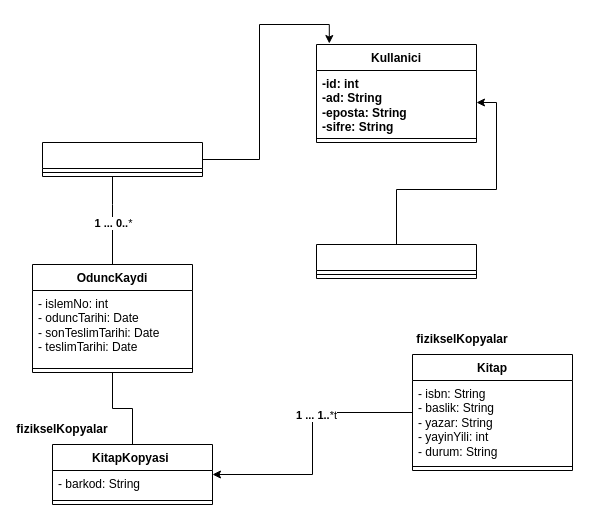
This 590x522 diagram has some shape labels left out. The shapes that lost their labels are listed below. From the top down, each one's centre as x and y in pixels, then its label:
pixel 122 159: Uye
pixel 396 261: KutuphaneGorevlisi
